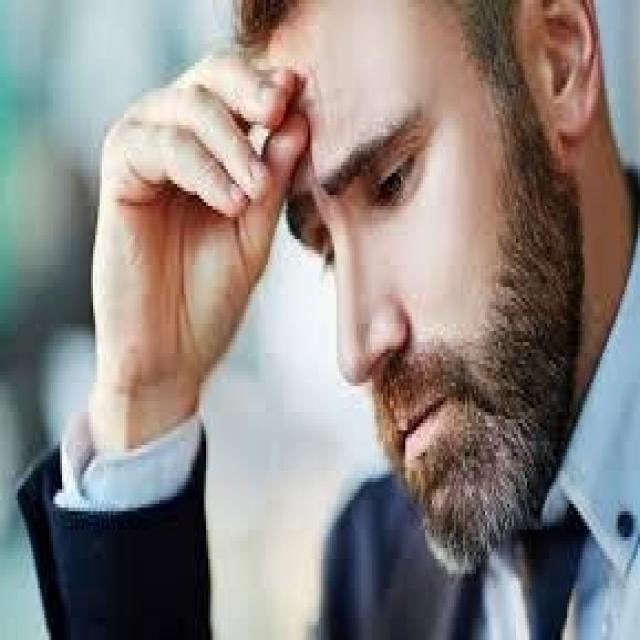person: (37, 0, 624, 625)
